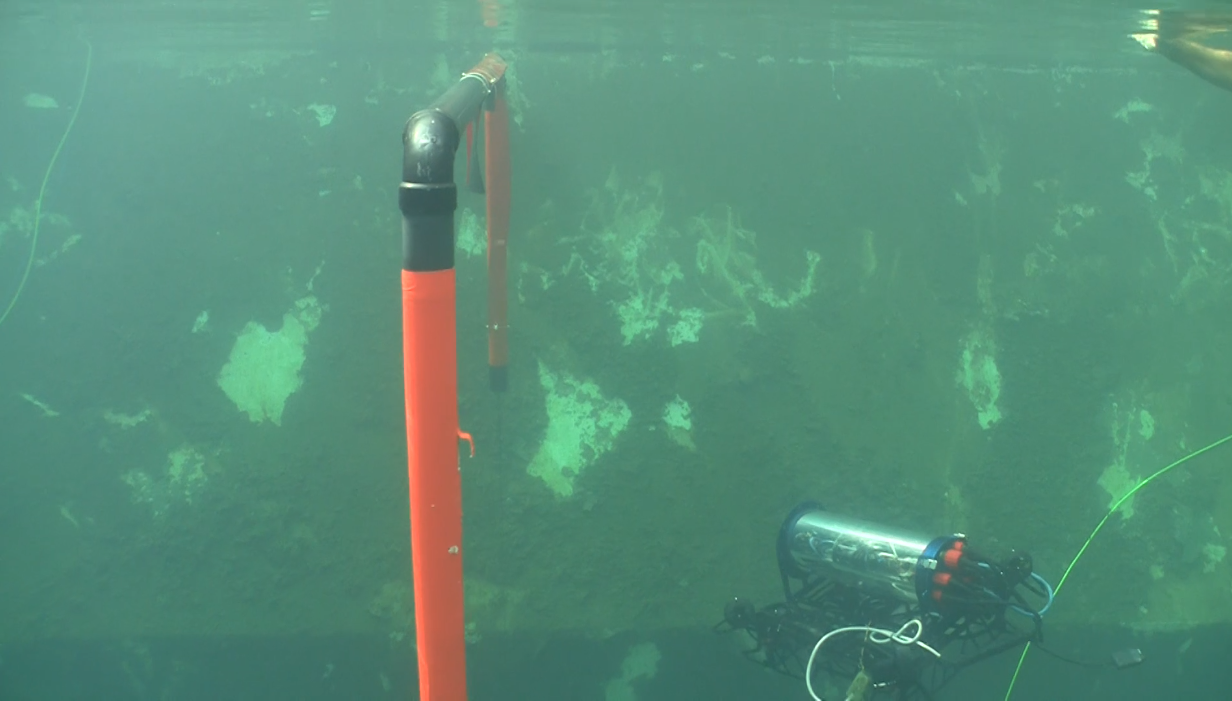gate: (395, 37, 522, 700)
